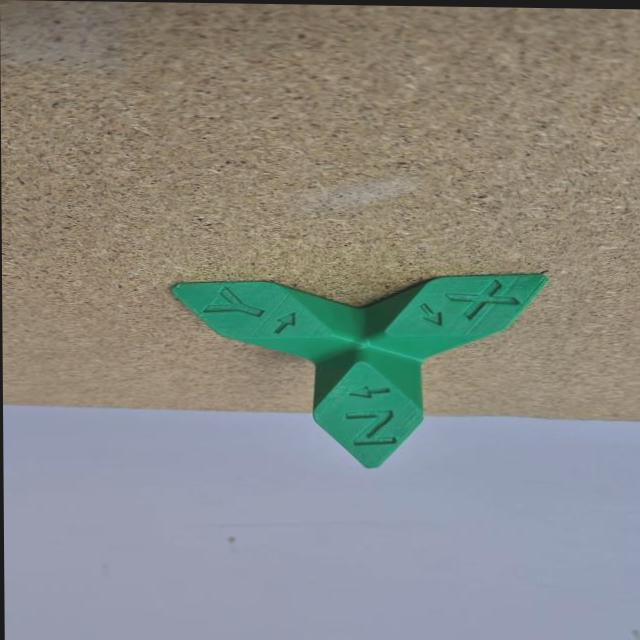eje: (162, 263, 556, 476)
